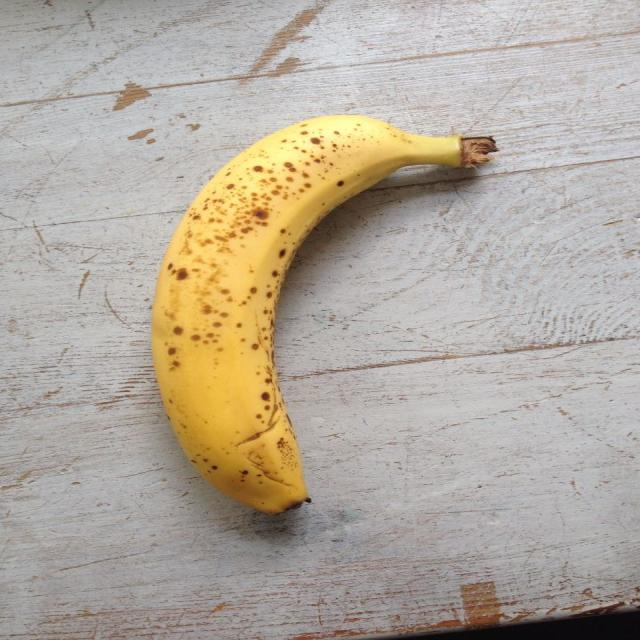unpeal banana: (152, 116, 495, 513)
